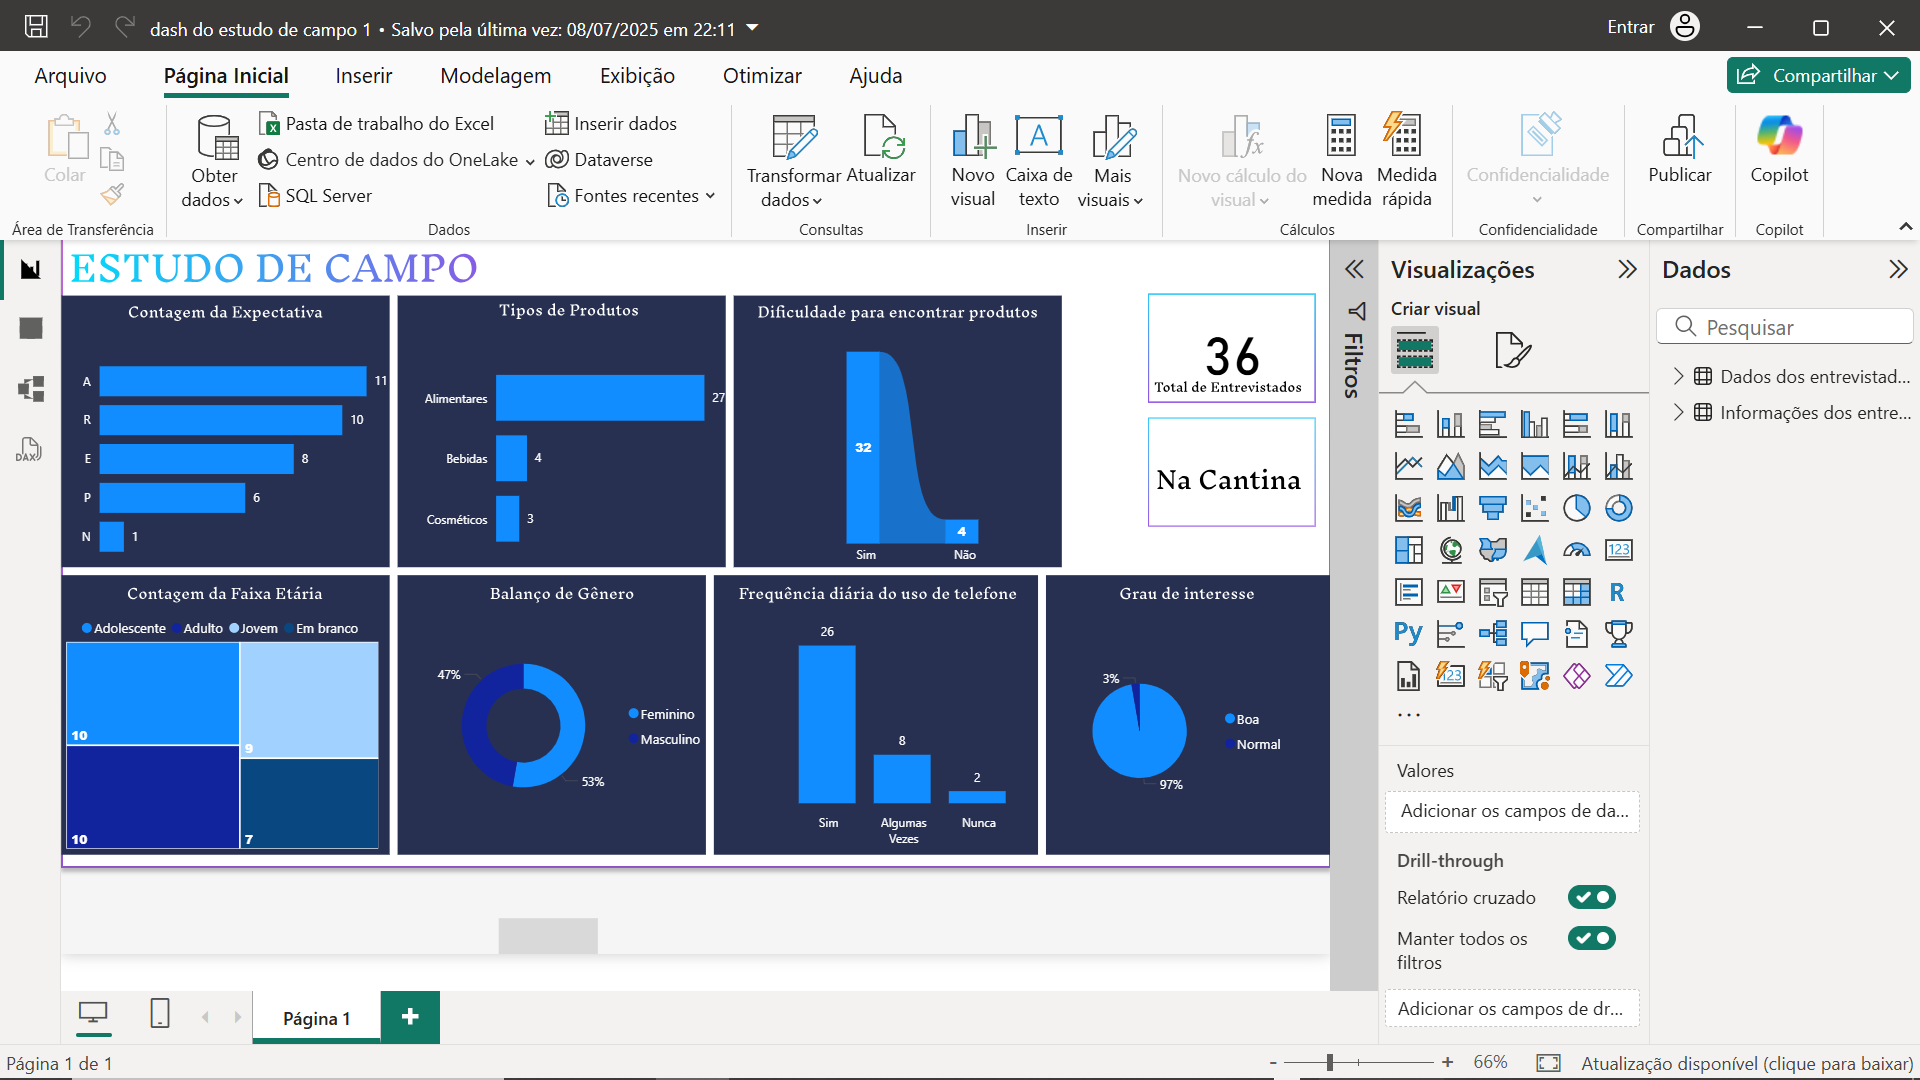

This screenshot's page, from the dashboard's own definition file:
{"tool":"powerbi","page":{"name":"Página 1","canvas":[1280,720],"ordinal":0},"visuals":[{"type":"donutChart","title":"Balanço de gênero","fields":{"Category":["Dados dos entrevistados.Gênero"],"Y":["CountNonNull(Dados dos entrevistados.Gênero)"]},"box":[355.6,360.1,304.1,258.7],"z":0},{"type":"columnChart","title":"Frequência de uso de telefone","fields":{"Category":["Informações dos entrevistados.Frequência de uso de telefone"],"Y":["CountNonNull(Informações dos entrevistados.Frequência de uso de telefone)"]},"box":[697.5,370.7,293.5,248.1],"z":1000},{"type":"clusteredBarChart","title":" Tipos de Produtos","fields":{"Category":["Informações dos entrevistados.Tipo de Produto"],"Y":["CountNonNull(Informações dos entrevistados.Tipo de Produto)"]},"box":[355.6,98.3,319.2,237.5],"z":2000},{"type":"pieChart","title":" Receptividade ","fields":{"Category":["Informações dos entrevistados.Receptividade"],"Y":["CountNonNull(Informações dos entrevistados.Receptividade)"]},"box":[997.1,370.7,248.1,248.1],"z":3000},{"type":"barChart","title":"Contagem de Expectativa ","fields":{"Category":["Informações dos entrevistados.Expectativa"],"Y":["CountNonNull(Informações dos entrevistados.Expectativa)"]},"box":[13.6,98.3,325.3,237.5],"z":4000},{"type":"card","fields":{"Values":["Dados dos entrevistados.Total de entrevistados"]},"box":[1103,59,157.4,101.4],"z":5000},{"type":"treemap","title":"Contagem de Faixa etaria ","fields":{"Values":["CountNonNull(Dados dos entrevistados.Faixa etaria)"],"Group":["Dados dos entrevistados.Faixa etaria"]},"box":[0,370.7,325.3,248.1],"z":6000},{"type":"ribbonChart","fields":{"Category":["Informações dos entrevistados.Dificuldade enct ptd"],"Y":["CountNonNull(Informações dos entrevistados.Dificuldade enct ptd)"]},"box":[697.5,80.2,328.3,255.7],"z":7000}]}

Visuals, with their boxes on the page's 1280x720 design canvas (x1, y1, x2, y2). These are canvas units, not pixel positions in the 1920x1080 screenshot, which may show the page scaled, cropped or inside an application window:
"Balanço de gênero" donutChart: x1=356 y1=360 x2=660 y2=619
"Frequência de uso de telefone" columnChart: x1=698 y1=371 x2=991 y2=619
" Tipos de Produtos" clusteredBarChart: x1=356 y1=98 x2=675 y2=336
" Receptividade " pieChart: x1=997 y1=371 x2=1245 y2=619
"Contagem de Expectativa " barChart: x1=14 y1=98 x2=339 y2=336
card - Dados dos entrevistados.Total de entrevistados: x1=1103 y1=59 x2=1260 y2=160
"Contagem de Faixa etaria " treemap: x1=0 y1=371 x2=325 y2=619
ribbonChart - Informações dos entrevistados.Dificuldade enct ptd x CountNonNull(Informações dos entrevistados.Dificuldade enct ptd): x1=698 y1=80 x2=1026 y2=336
